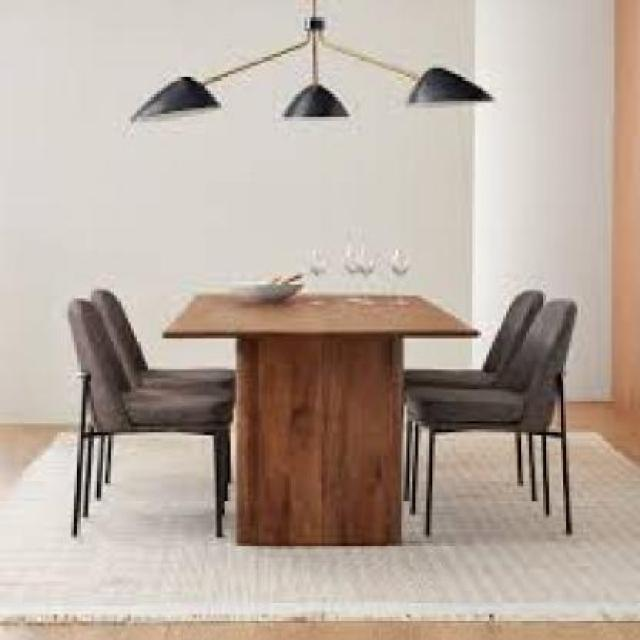tables: (162, 291, 480, 546)
